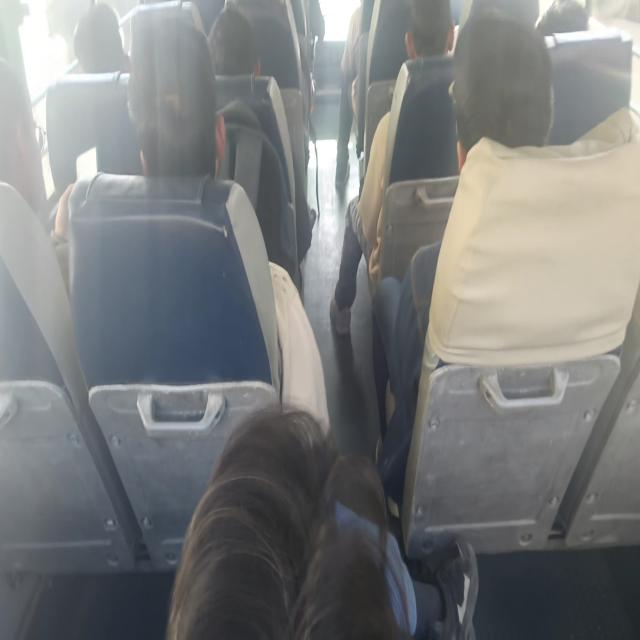person: (53, 6, 330, 435), (371, 7, 555, 516), (165, 404, 479, 638), (329, 0, 456, 335), (127, 9, 226, 177), (0, 56, 74, 240), (334, 2, 364, 190), (72, 1, 128, 74), (208, 6, 260, 76), (534, 0, 591, 35)
